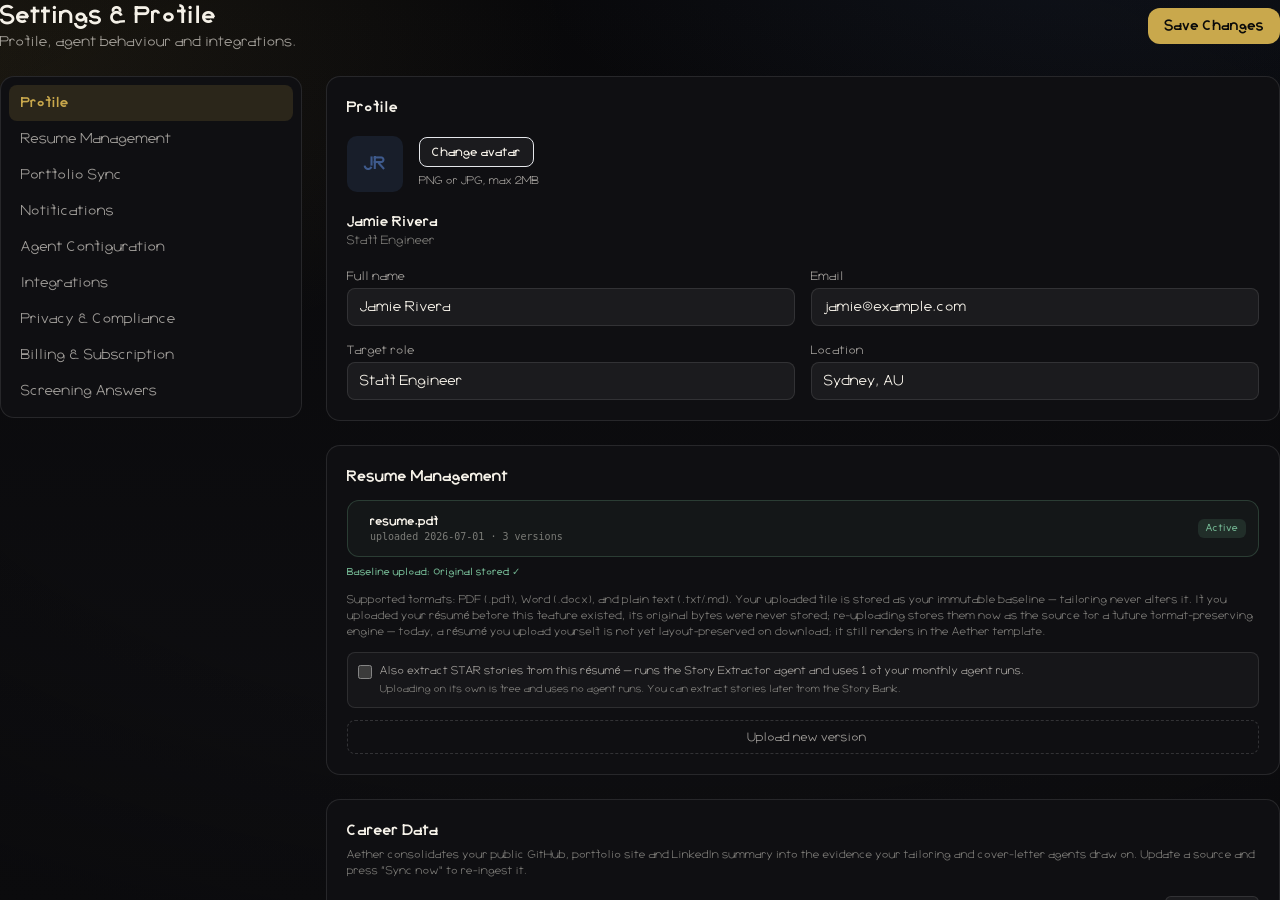
Test: SettingsPage — Job Board Sync is real, not a fake setTimeout (MV-settings-002) › shows an honest error (not a fake success) when runScoutAgent rejects, and does not get stuck in a Syncing state
Step 1. Click the button with test id "settings-nav-integrations" → [65, 283], box [9, 265, 293, 301]
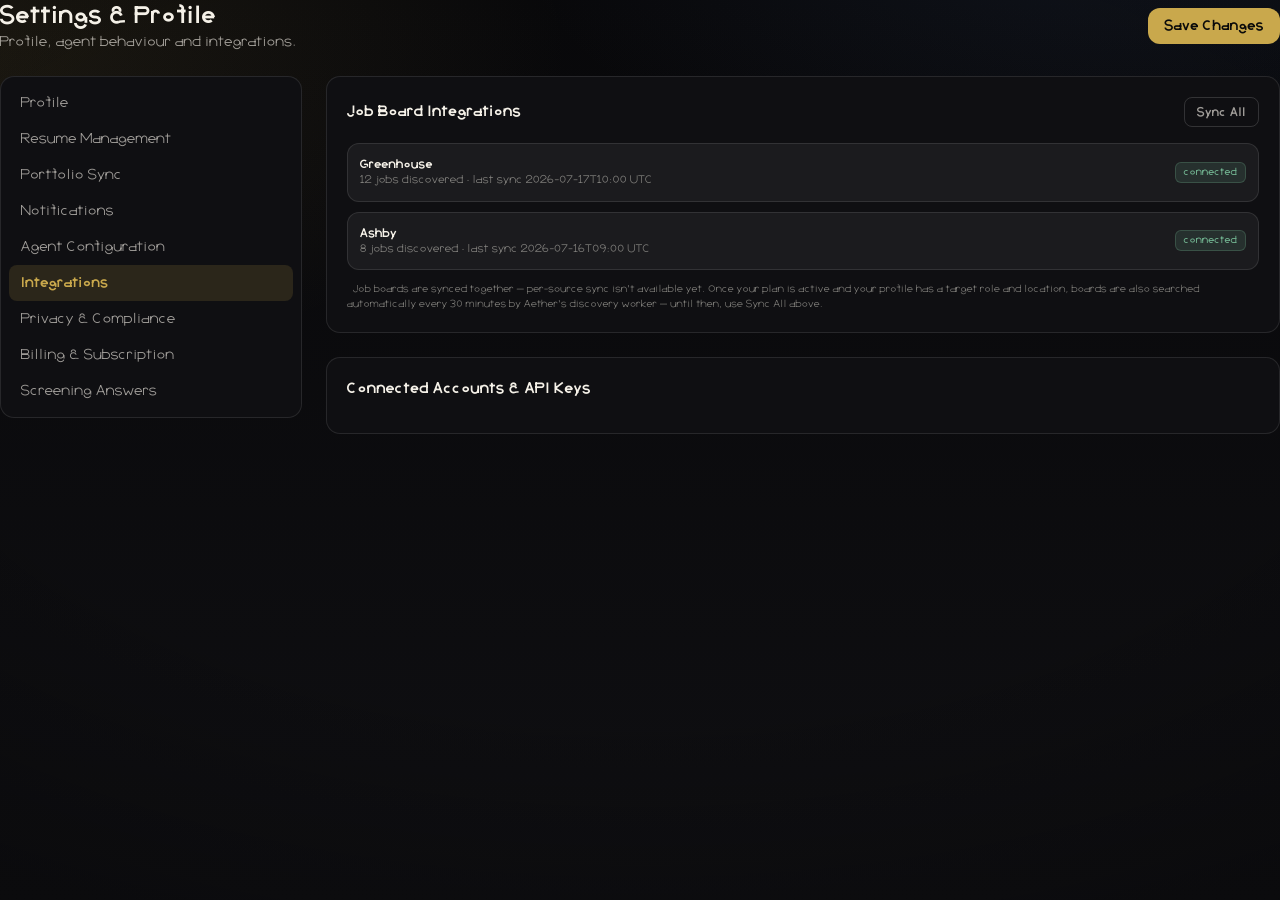
Expected: the element with test id "settings-integrations" is shown, [326, 76, 1279, 333]
Step 2. Click the button with test id "sync-all-btn" → [1222, 112], box [1184, 97, 1259, 127]
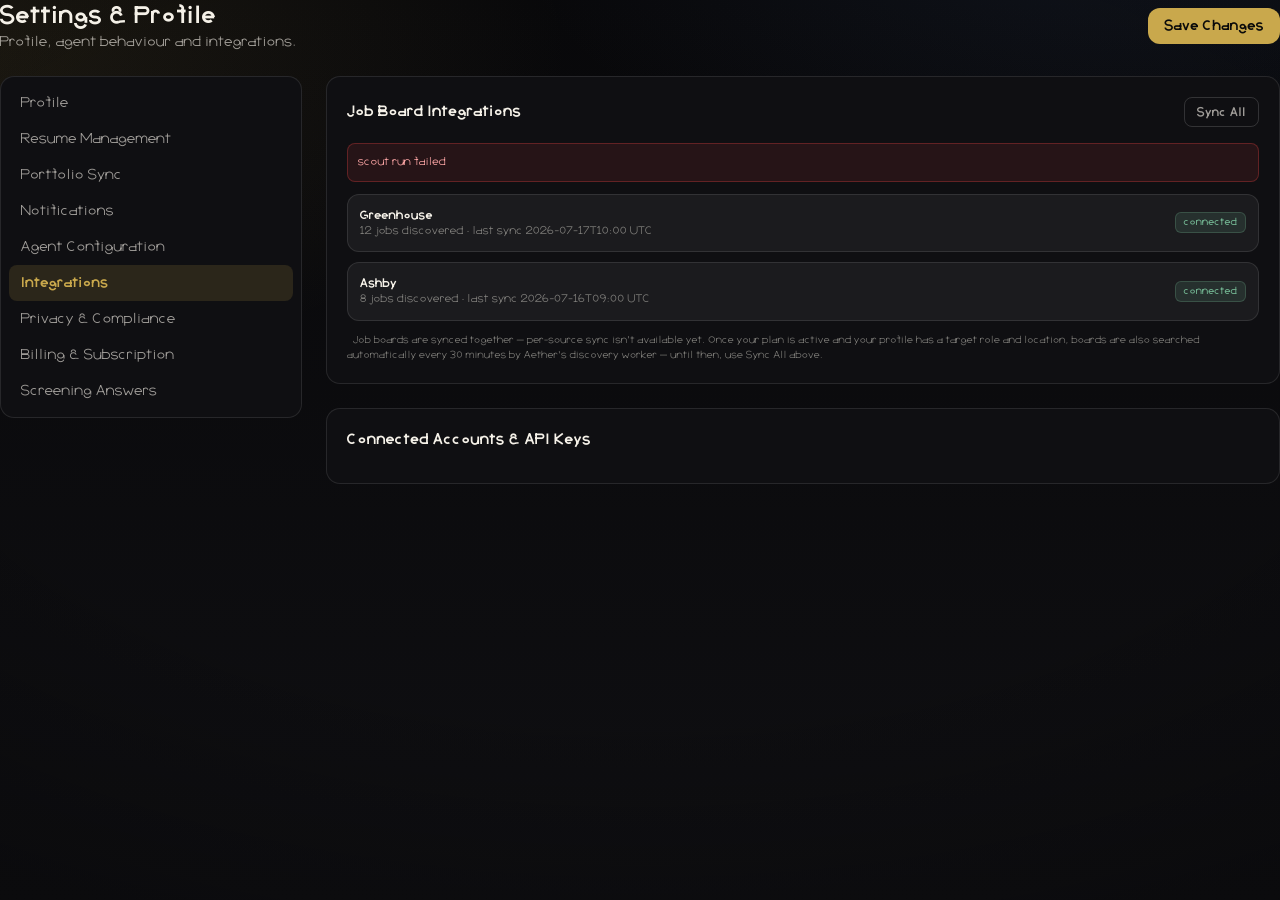
Expected: the message "scout run failed" is shown, [347, 143, 1259, 182]
